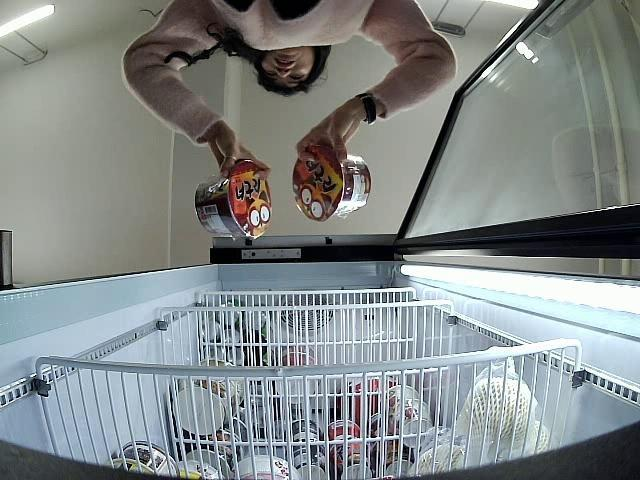05_nuguri_L: (192, 158, 272, 237), (292, 144, 372, 222)
